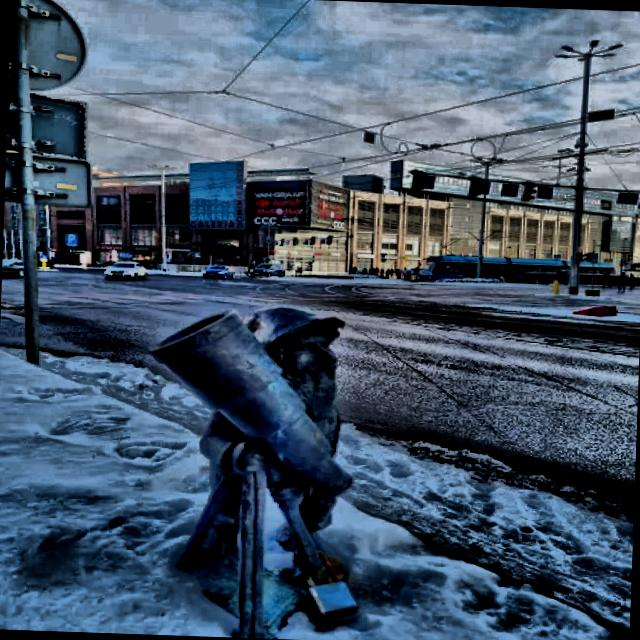Lunetyk: (149, 307, 357, 638)
